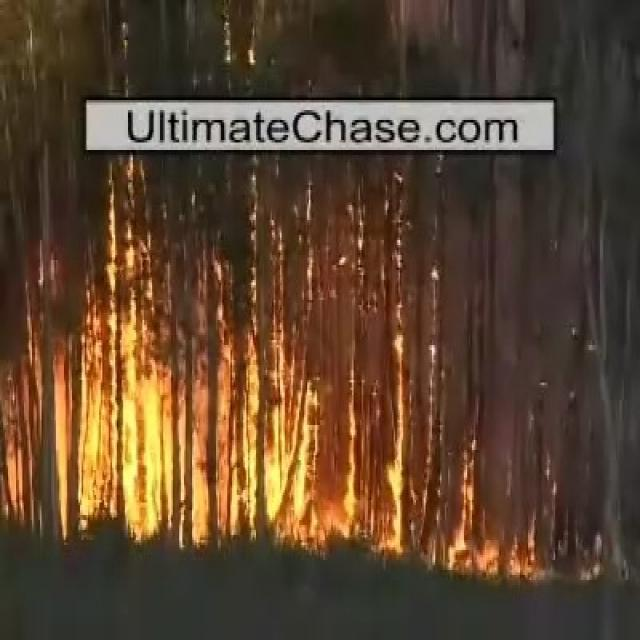fire: (123, 358, 170, 539)
